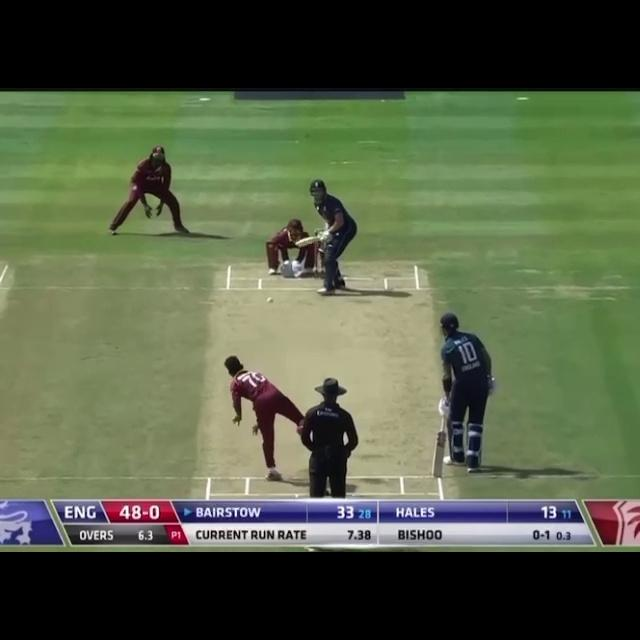umpire: (293, 375, 373, 507)
